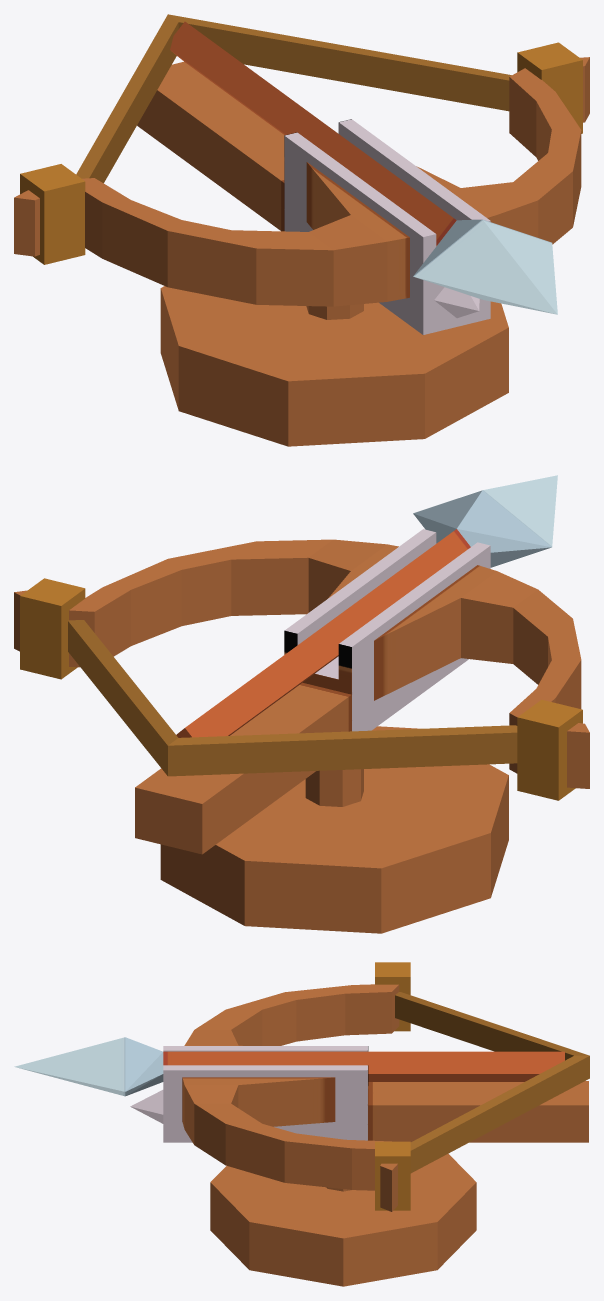
The model's file is crossbow_mesh.FBX.
3 renders of one model, top to bottom at view 1: azimuth 30°, elevation 25°; view 2: azimuth 150°, elevation 25°; view 3: azimuth 270°, elevation 25°, orthographic. The views are drawn at different scales.
Visible parts, largest first — view 1: Cylinder002; view 2: Cylinder002; view 3: Cylinder002.
Part boxes in pixels (x1=…): Cylinder002: x1=14, y1=14, x2=589, y2=446; Cylinder002: x1=14, y1=475, x2=589, y2=933; Cylinder002: x1=14, y1=962, x2=589, y2=1286.
Size of the model in its own units: 92.29 by 40.08 by 108.
1 material, 1 textured.
